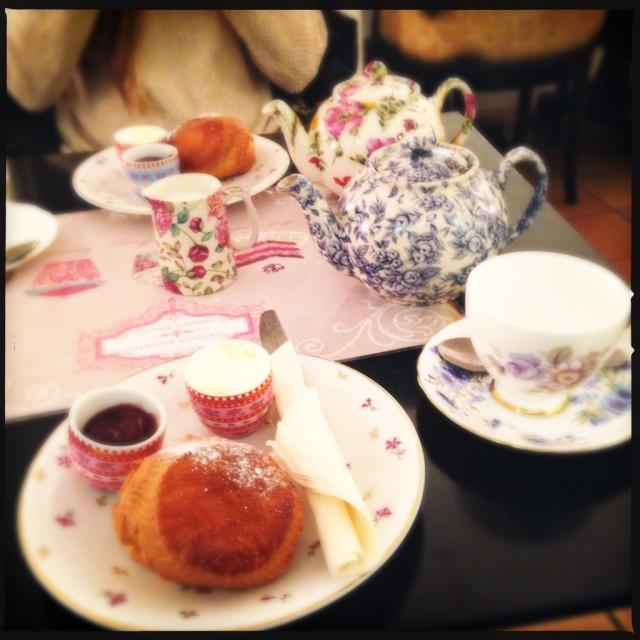Tea: (66, 375, 172, 490), (81, 401, 159, 447), (130, 155, 168, 159)
